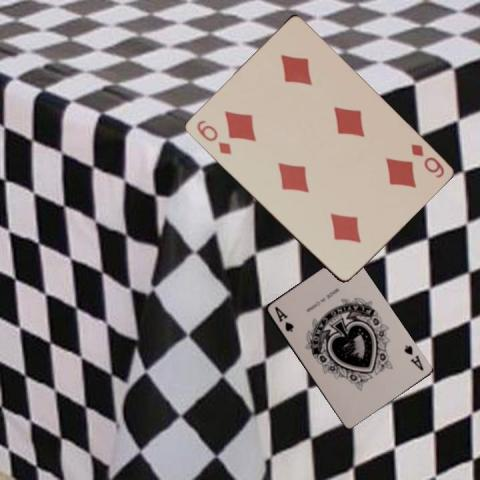6d: (193, 116, 233, 156), (408, 141, 446, 179)
As: (271, 304, 295, 334), (400, 342, 424, 372)
